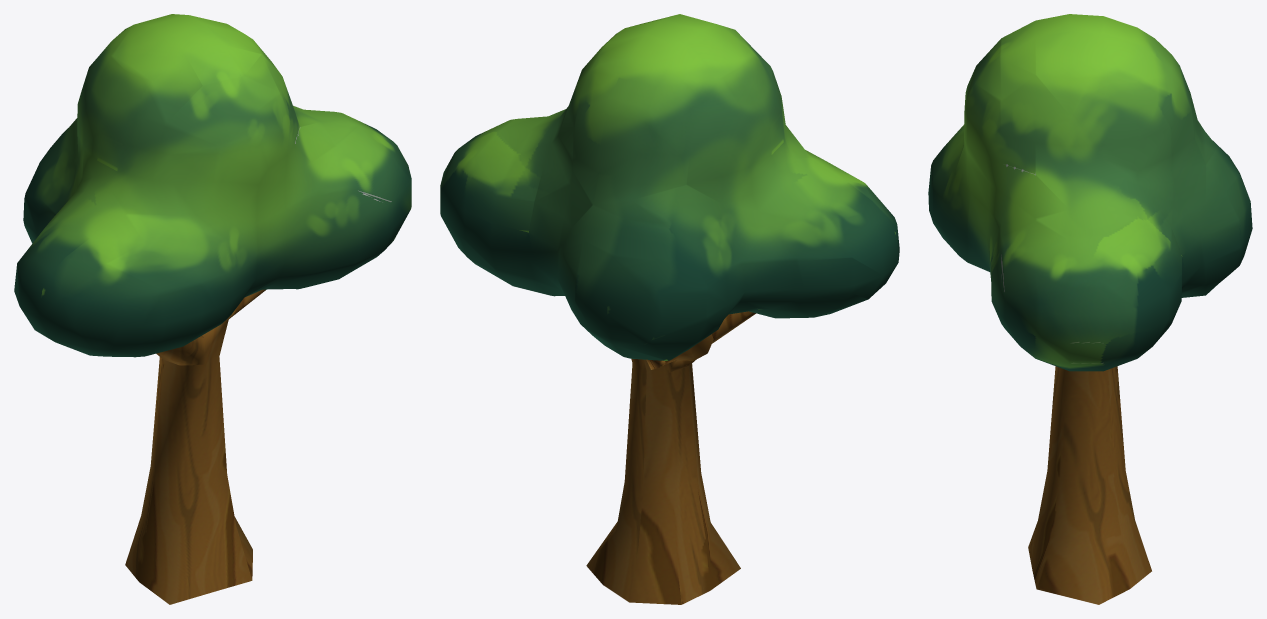
File: tree1.fbx
The picture shows the model from 3 angles, left to right: view 1: azimuth 30°, elevation 25°; view 2: azimuth 150°, elevation 25°; view 3: azimuth 270°, elevation 25°; orthographic projection.
Parts seen in each view (by area): view 1: tree.001; view 2: tree.001; view 3: tree.001.
Boxes of the visible parts, x1,y1,x2,y2 form: tree.001: (14,14,411,604); tree.001: (440,14,899,604); tree.001: (928,14,1252,604).
Size of the model in its own units: 1088 by 1409 by 761.
